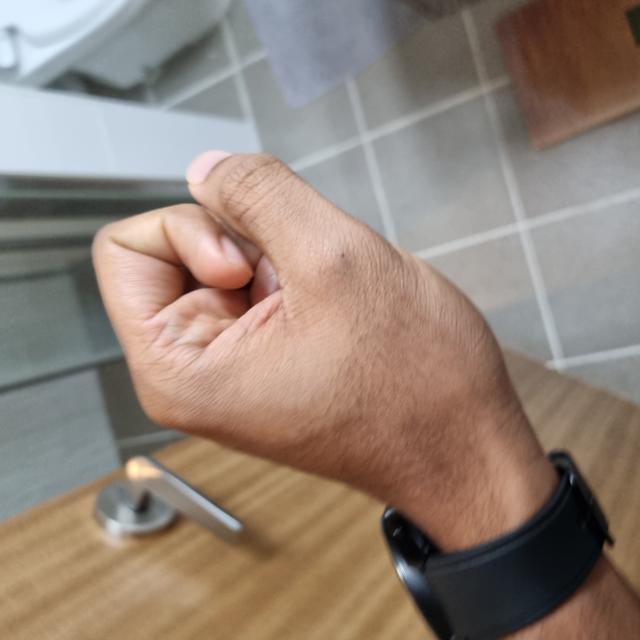Rock: (123, 92, 492, 510)
